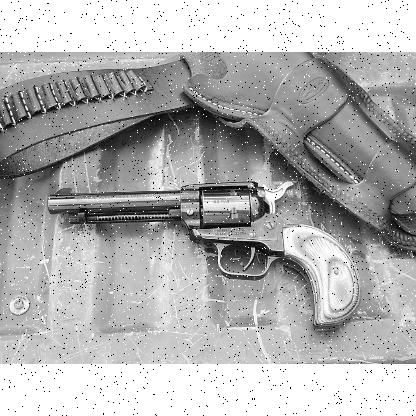gun: (47, 178, 360, 328)
